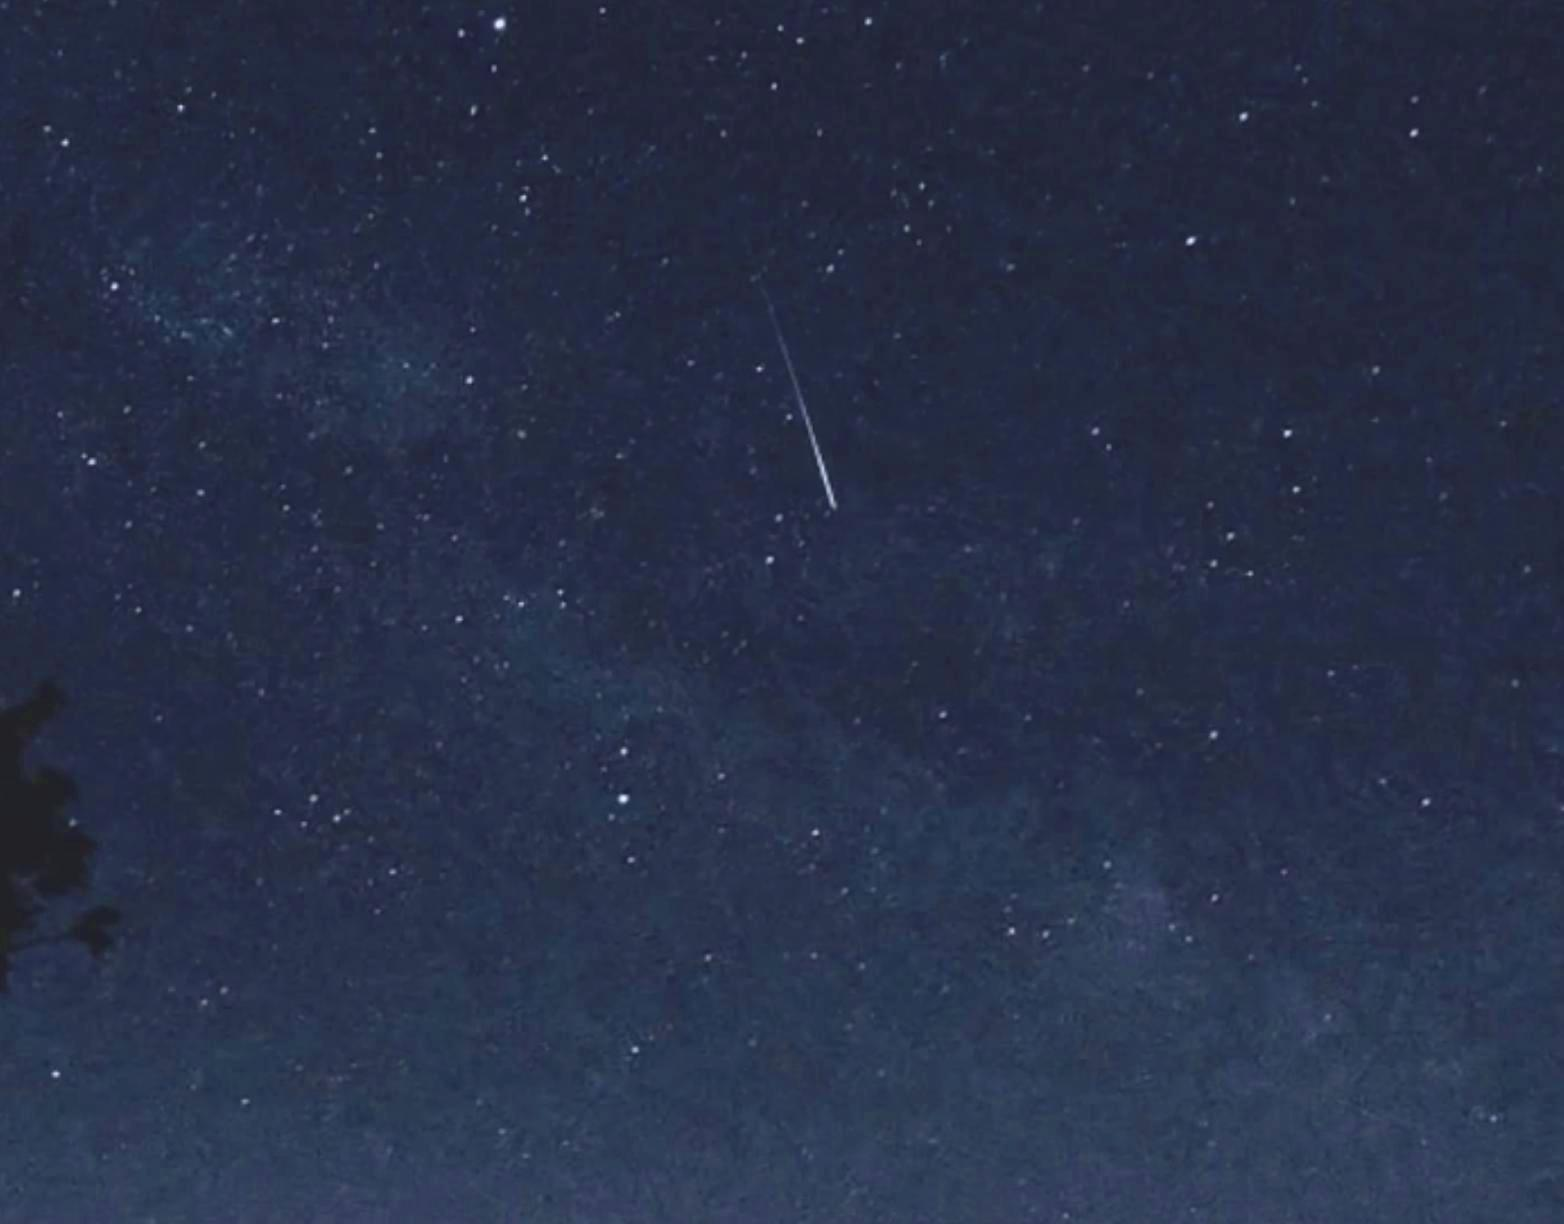meteorite: (727, 289, 856, 521)
